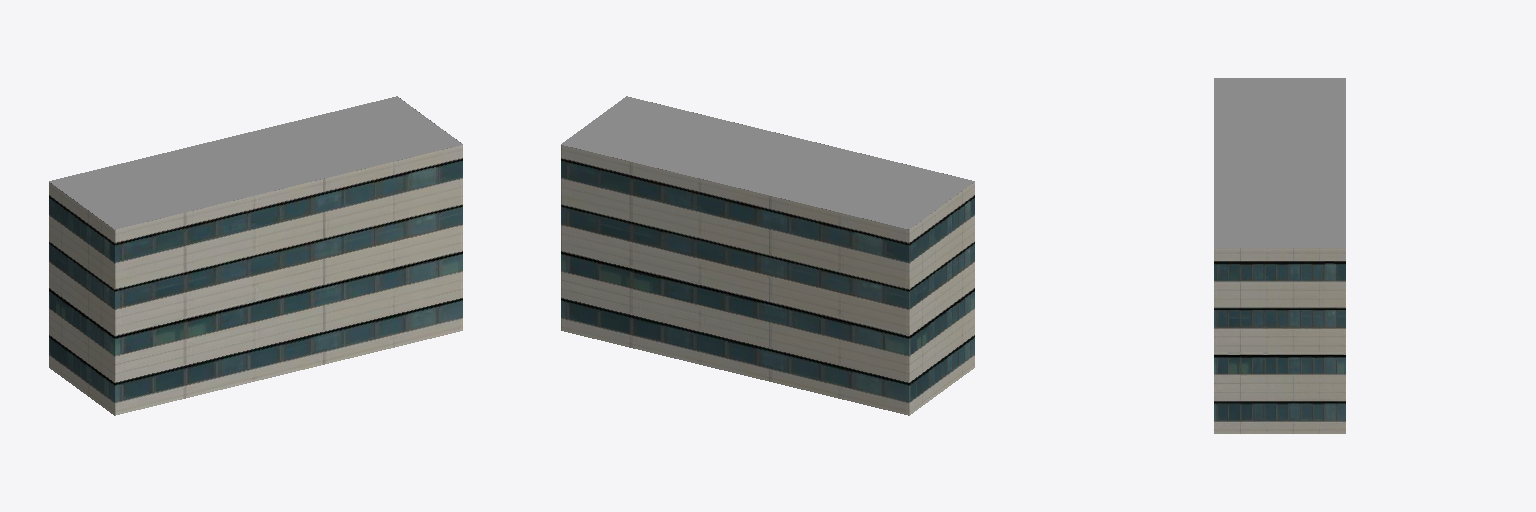
3 renders of one model, left to right at view 1: azimuth 30°, elevation 25°; view 2: azimuth 150°, elevation 25°; view 3: azimuth 270°, elevation 25°, orthographic.
Parts seen in each view (by area): view 1: office; view 2: office; view 3: office.
Part boxes in pixels (bbox=[...]): office: bbox=[49, 96, 462, 415]; office: bbox=[561, 96, 974, 415]; office: bbox=[1214, 78, 1345, 433].
Bounding box in the file's own units: 50.2 × 25.58 × 16.5.
Materials: 2 (1 with a texture image).